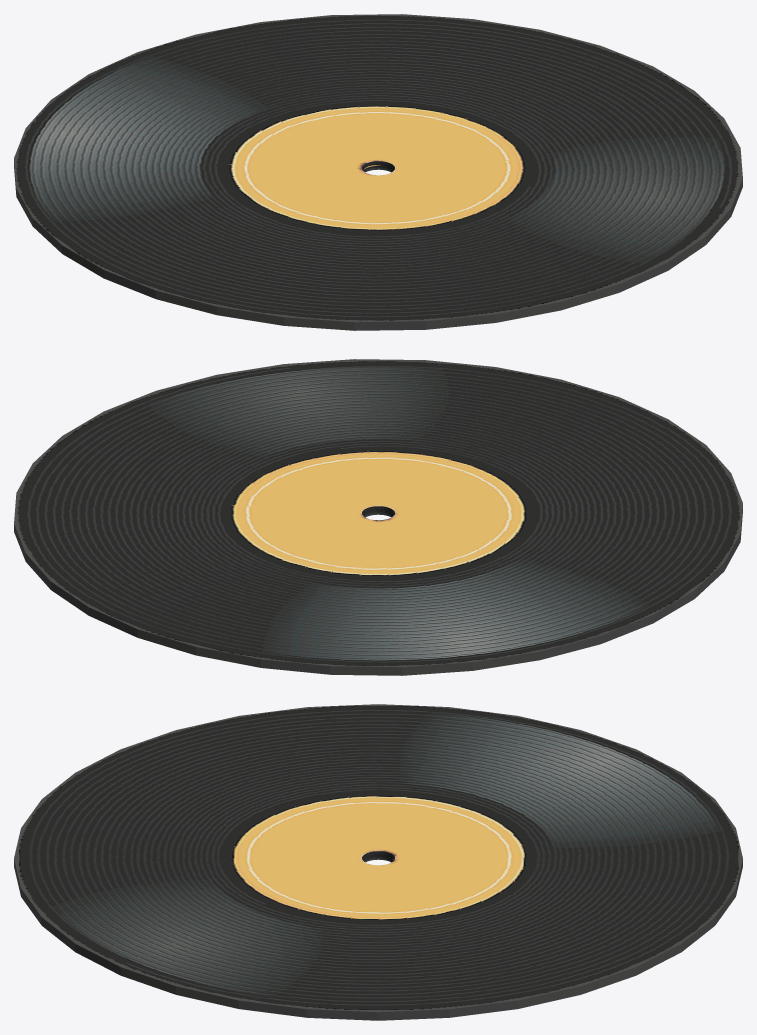
The model's file is RecordDisc.fbx.
3 views of the same model, one above another, from view 1: azimuth 30°, elevation 25°; view 2: azimuth 150°, elevation 25°; view 3: azimuth 270°, elevation 25° (orthographic).
Parts seen in each view (by area): view 1: Cylinder; view 2: Cylinder; view 3: Cylinder.
Boxes of the visible parts, box(x1,y1,x2,y2) form: Cylinder: box(14, 14, 742, 330); Cylinder: box(14, 359, 742, 675); Cylinder: box(14, 704, 742, 1020).
Size of the model in its own units: 200 by 2.6 by 200.
